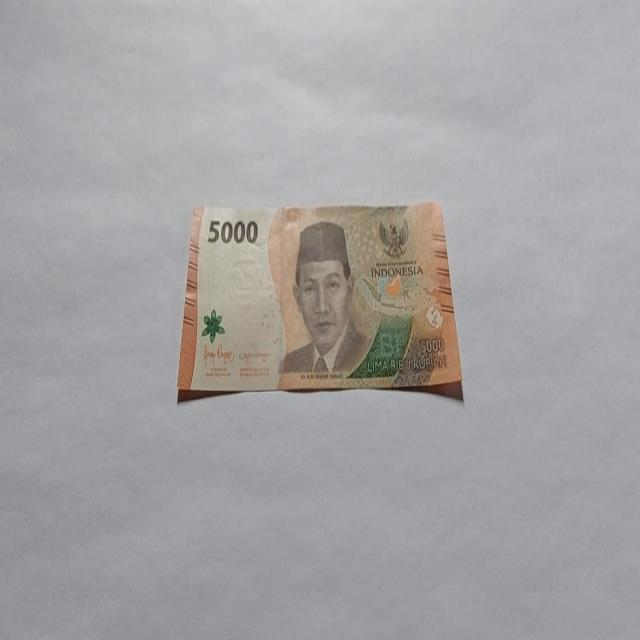lima ribu rupiah: (176, 200, 464, 404), (276, 220, 372, 380)
